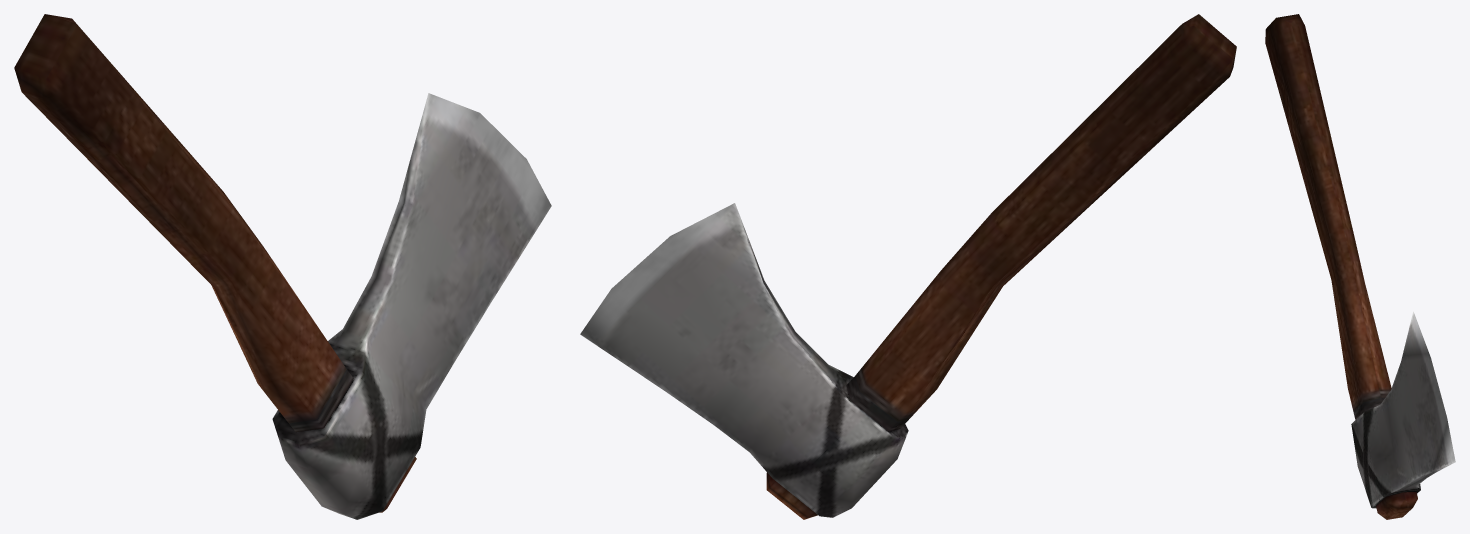
File: weapon-base.glb
3 views of the same model, side by side, from view 1: azimuth 30°, elevation 25°; view 2: azimuth 150°, elevation 25°; view 3: azimuth 270°, elevation 25° (orthographic). The views are drawn at different scales.
Size of the model in its own units: 0.7242 by 0.6662 by 0.2973.
Materials: 1 (1 with a texture image).
